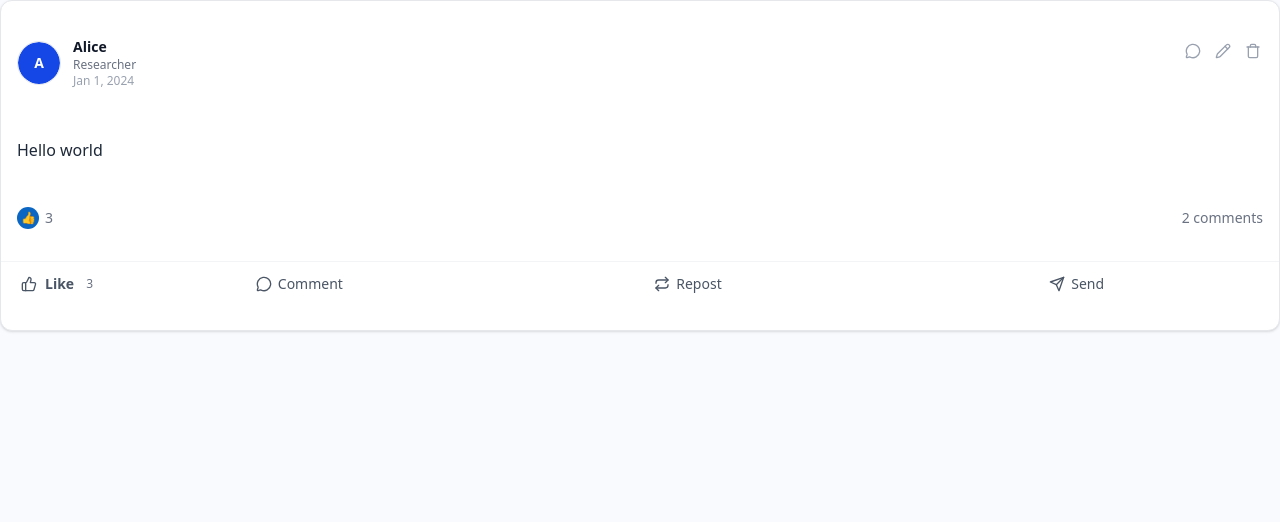
Test: PostItem › editing › opens the inline editor with the current content
This screenshot has width=1280, height=522.
Click the button titled "Edit post". click: click(1223, 51)
box: [1209,37,1237,65]
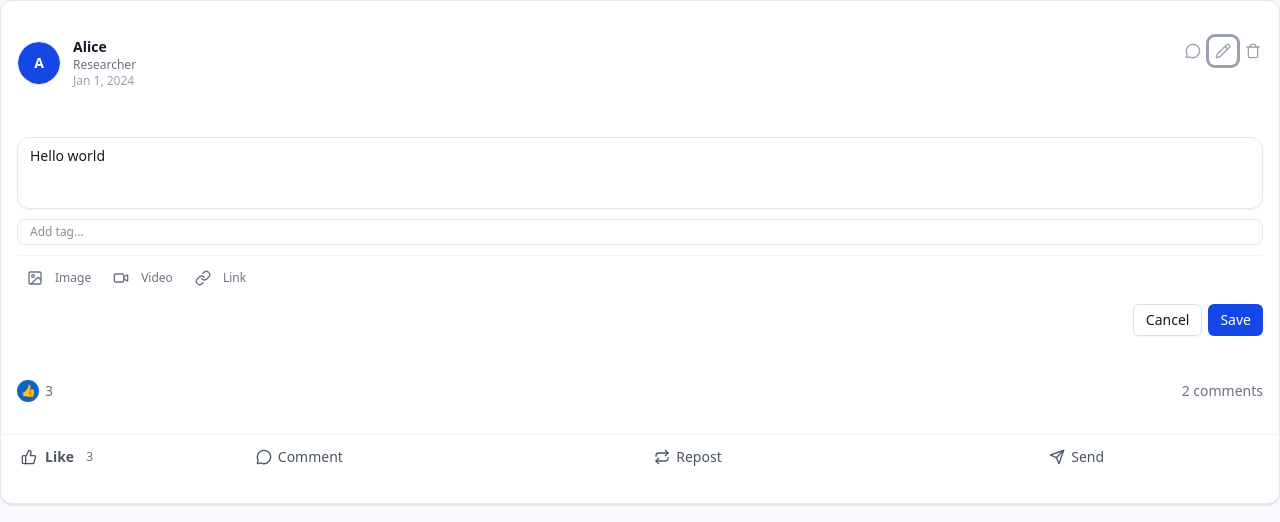
Check: the text box showing "Hello world" is shown, box [17,137,1263,209]
